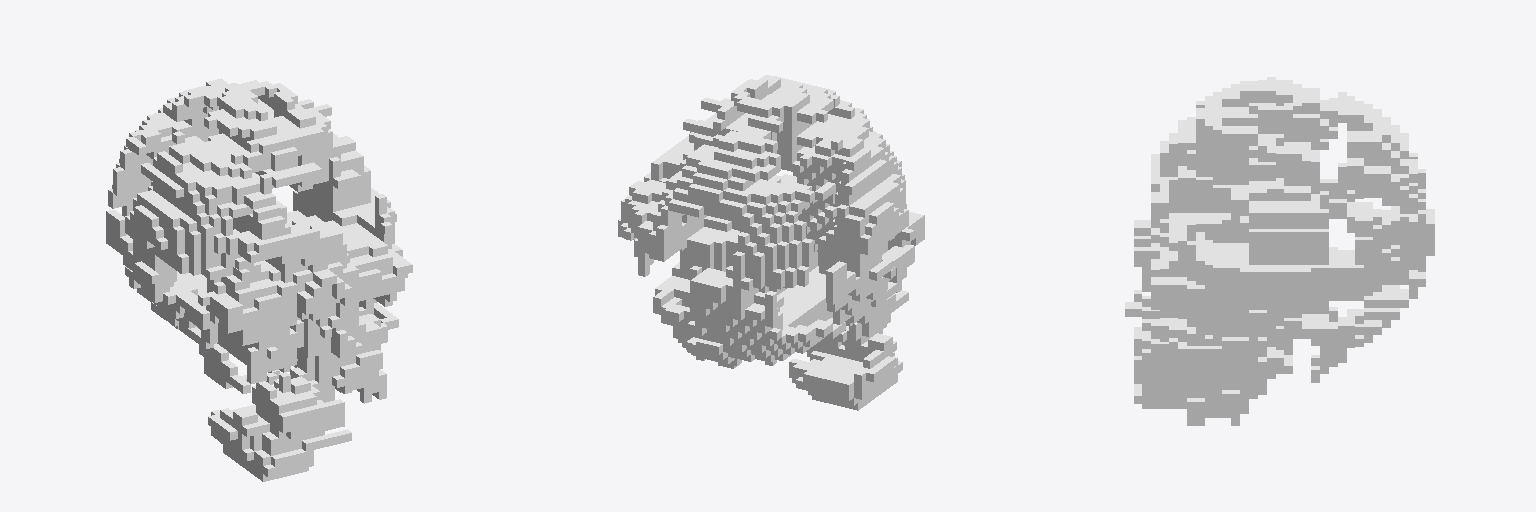
Rendered from CalaveraFeedback2-0.obj.
3 views of the same model, side by side, from view 1: azimuth 30°, elevation 25°; view 2: azimuth 150°, elevation 25°; view 3: azimuth 270°, elevation 25° (orthographic).
Parts seen in each view (by area): view 1: object 1; view 2: object 1; view 3: object 1.
Boxes of the visible parts, x1,y1,x2,y2 form: object 1: [106, 78, 412, 481]; object 1: [618, 75, 924, 410]; object 1: [1125, 77, 1434, 425].
Bounding box in the file's own units: 3 × 4 × 3.5.